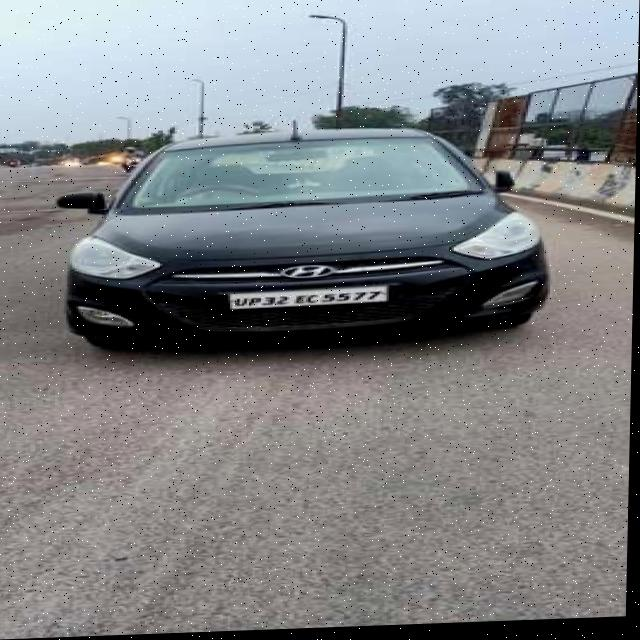plate: (227, 287, 386, 313)
